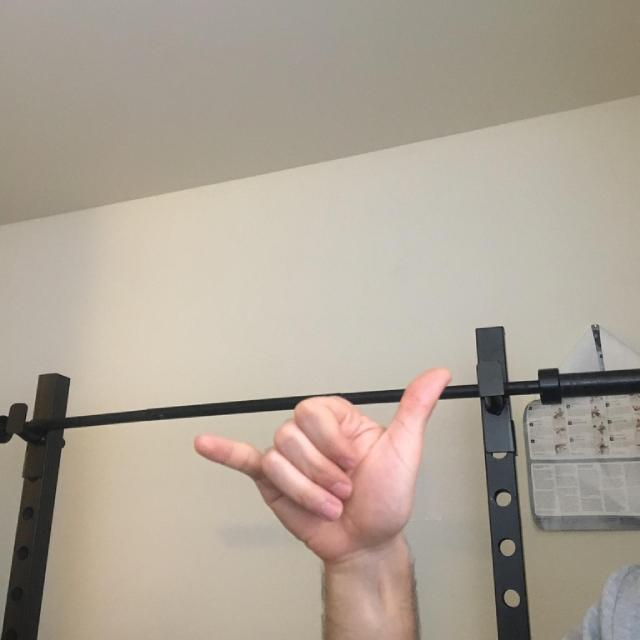Y: (165, 363, 528, 640)
